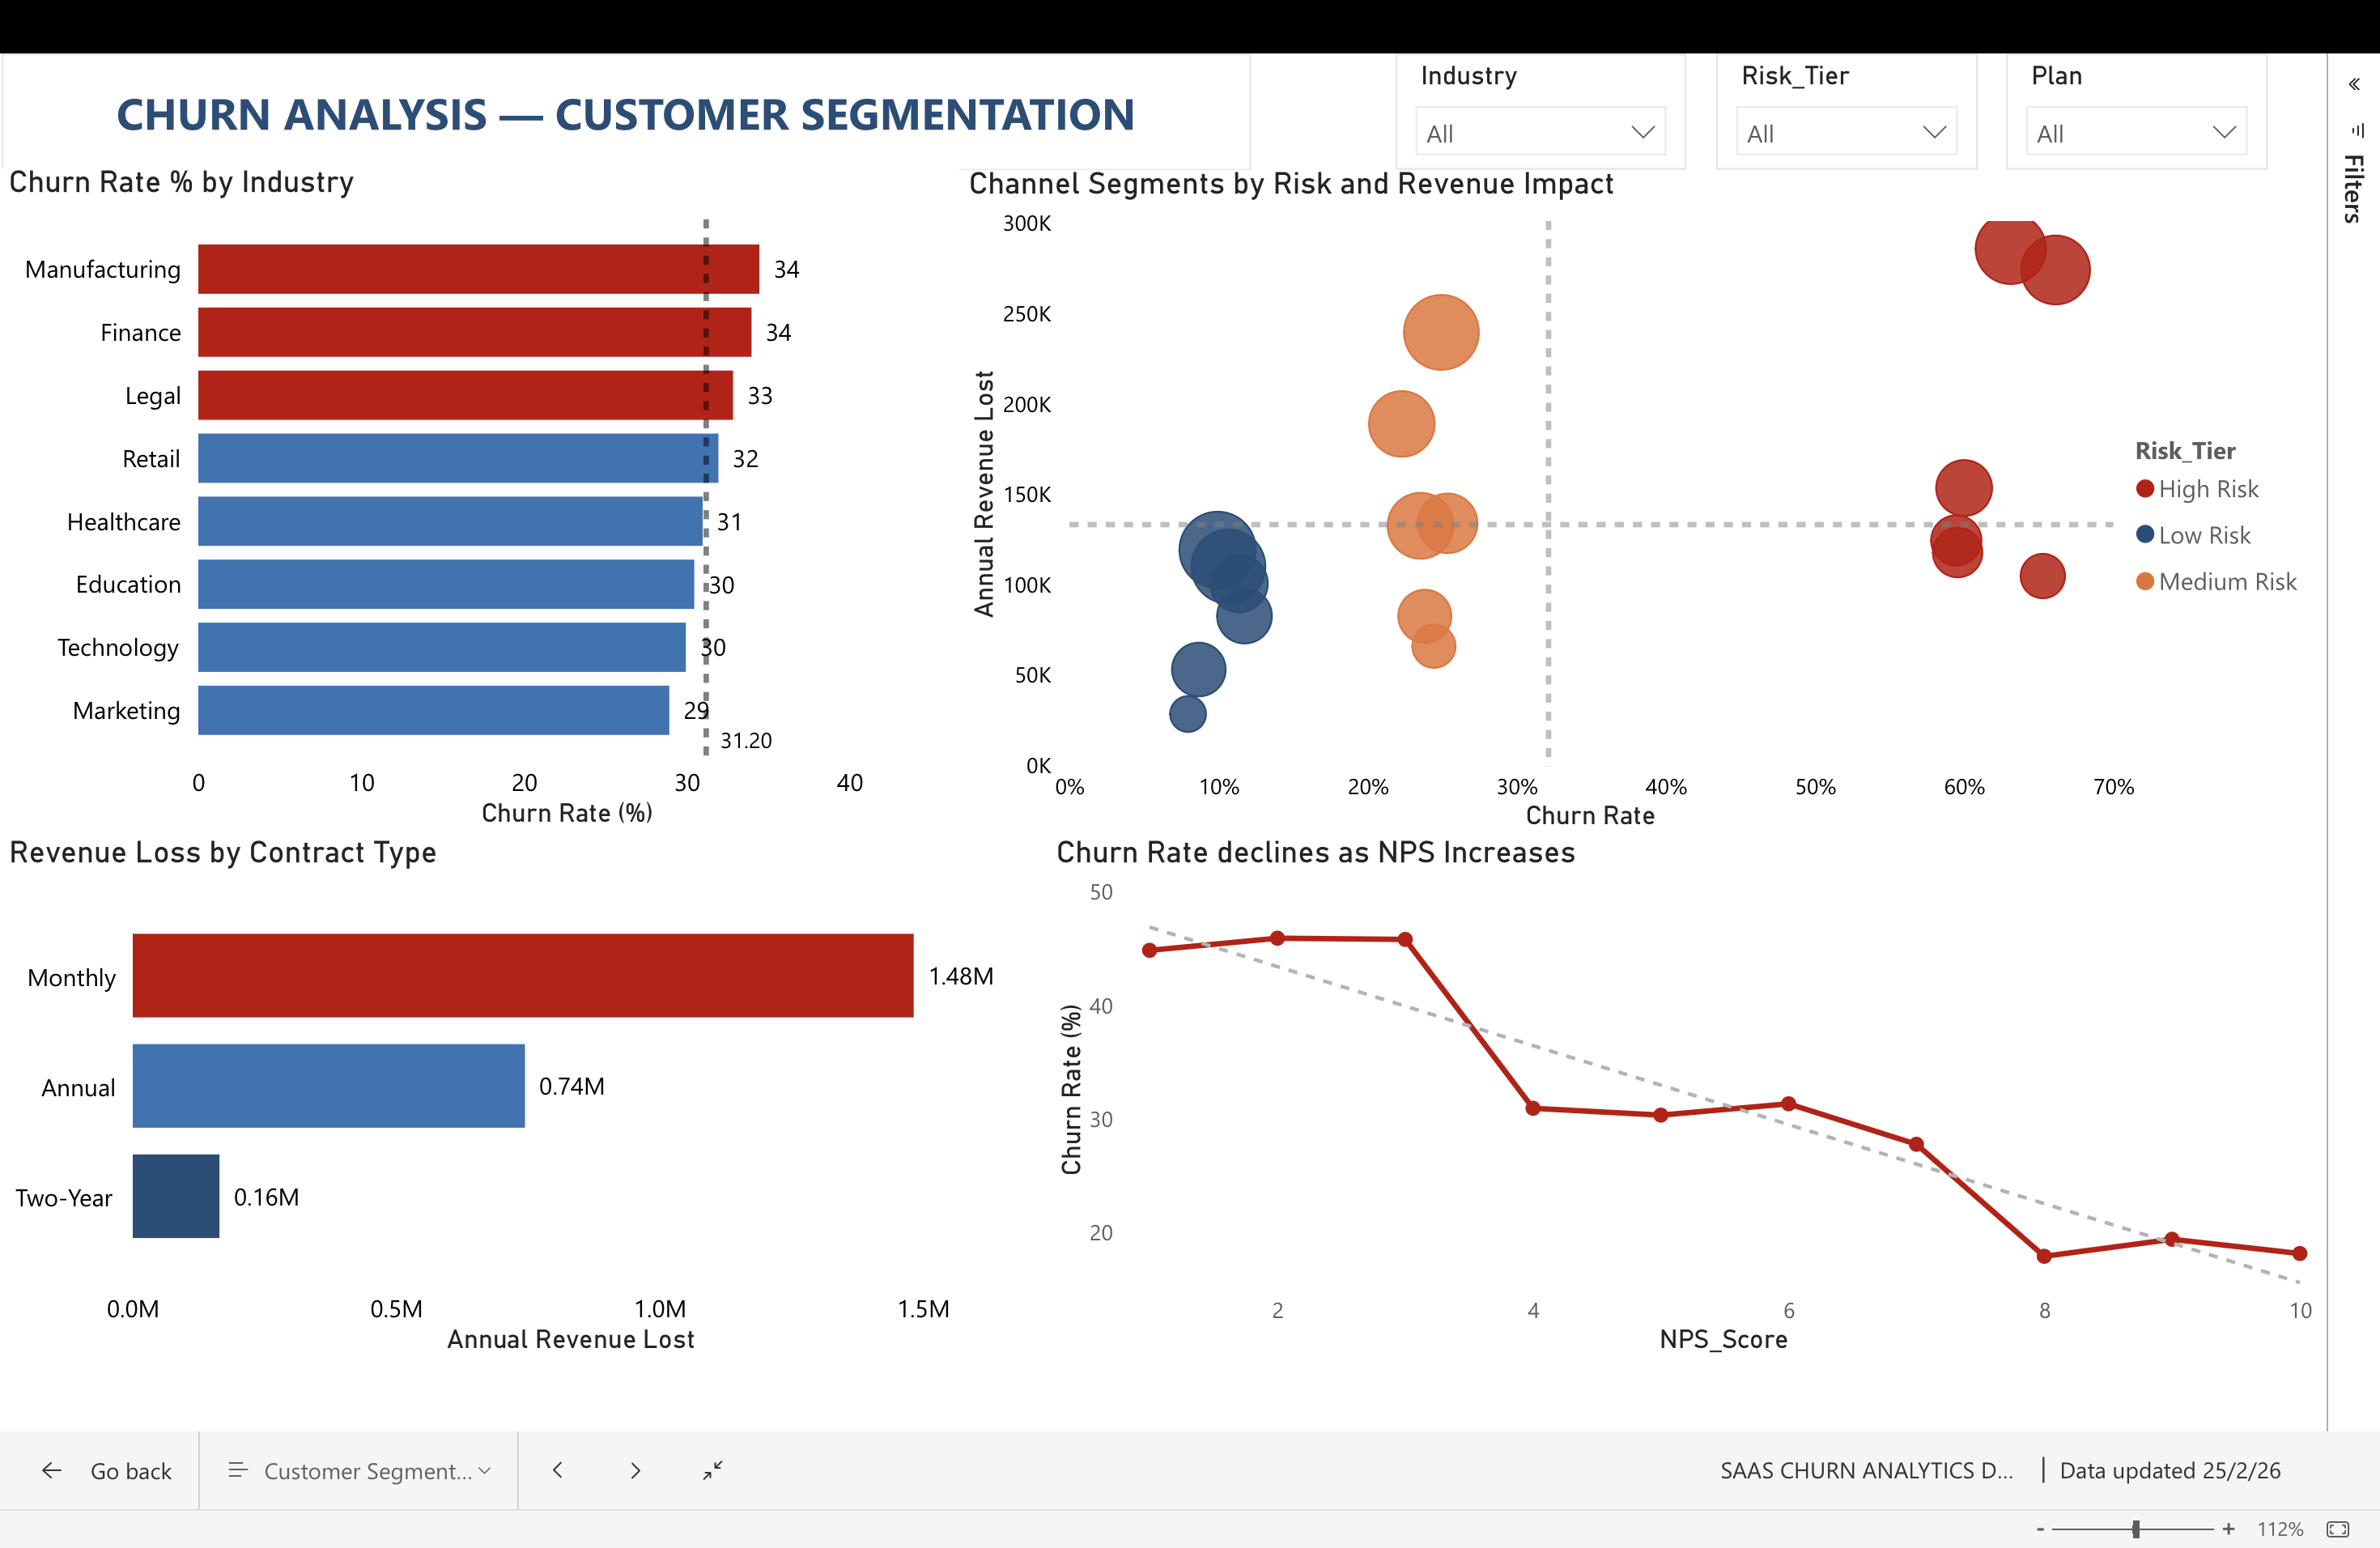

This screenshot's page, from the dashboard's own definition file:
{"tool":"powerbi","page":{"name":"Customer Segmentation","canvas":[1280,720],"ordinal":1},"visuals":[{"type":"shape","box":[1.2,0,687.4,64.4],"z":0},{"type":"slicer","fields":{"Values":["churn_dashboard_main.Plan"]},"box":[1104,0,144,64],"z":1000},{"type":"slicer","fields":{"Values":["churn_dashboard_main.Risk_Tier"]},"box":[944,0,144,64],"z":2000},{"type":"slicer","fields":{"Values":["churn_dashboard_segments.Industry"]},"box":[768,0,160,64],"z":3000},{"type":"clusteredBarChart","title":"Churn Rate % by Industry","fields":{"Category":["churn_dashboard_segments.Industry"],"Y":["Avg(churn_dashboard_segments.Churn_Rate_Pct)"]},"box":[0,63.6,528,367.7],"z":4000},{"type":"clusteredBarChart","title":"Revenue Loss by Contract Type","fields":{"Category":["churn_dashboard_main.Contract_Type"],"Y":["churn_dashboard_contract.Annual Revenue Lost"]},"box":[0,432,576,288],"z":5000},{"type":"lineChart","title":"Churn Rate declines as NPS Increases","fields":{"Category":["churn_dashboard_main.NPS_Score"],"Y":["churn_dashboard_main.NPS Churn Rate"]},"box":[576,432,704,288],"z":7000},{"type":"scatterChart","title":"Channel Segments by Risk and Revenue Impact","fields":{"X":["churn_dashboard_contract.Churn Rate"],"Y":["churn_dashboard_contract.Annual Revenue Lost"],"Size":["churn_dashboard_contract.Total Customers"],"Series":["churn_dashboard_main.Risk_Tier"],"Category":["churn_dashboard_main.Acquisition_Channel"]},"box":[528.3,64,750.4,367.7],"z":8000}]}

Visuals, with their boxes on the page's 1280x720 design canvas (x1, y1, x2, y2). These are canvas units, not pixel positions in the 2380x1548 screenshot, which may show the page scaled, cropped or inside an application window:
shape: (left=1, top=0, right=689, bottom=64)
slicer - churn_dashboard_main.Plan: (left=1104, top=0, right=1248, bottom=64)
slicer - churn_dashboard_main.Risk_Tier: (left=944, top=0, right=1088, bottom=64)
slicer - churn_dashboard_segments.Industry: (left=768, top=0, right=928, bottom=64)
"Churn Rate % by Industry" clusteredBarChart: (left=0, top=64, right=528, bottom=431)
"Revenue Loss by Contract Type" clusteredBarChart: (left=0, top=432, right=576, bottom=720)
"Churn Rate declines as NPS Increases" lineChart: (left=576, top=432, right=1280, bottom=720)
"Channel Segments by Risk and Revenue Impact" scatterChart: (left=528, top=64, right=1279, bottom=432)
